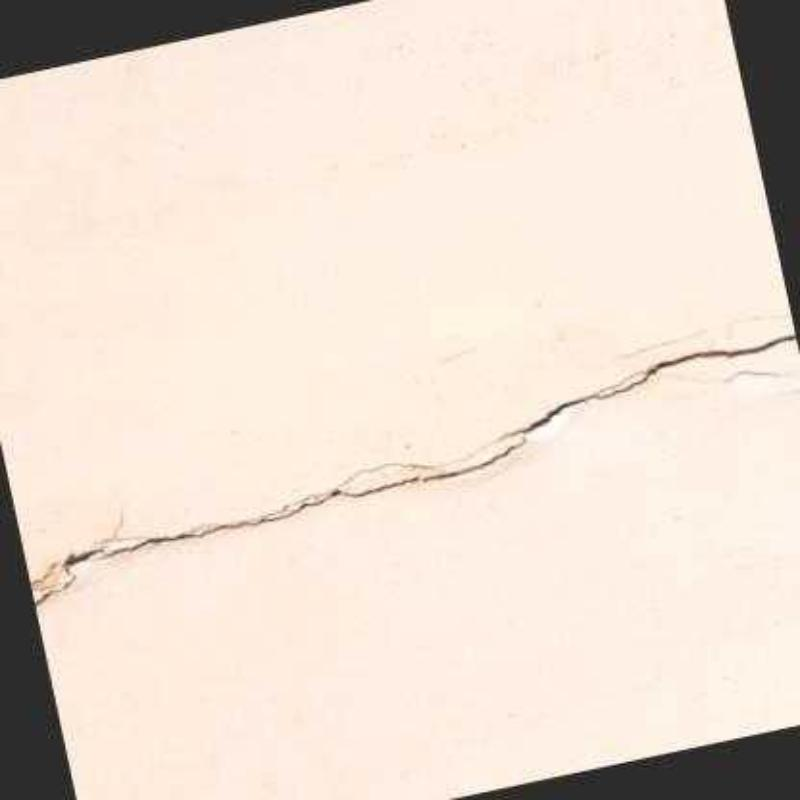pothole: (29, 327, 798, 608), (340, 463, 433, 487), (94, 510, 133, 544)
